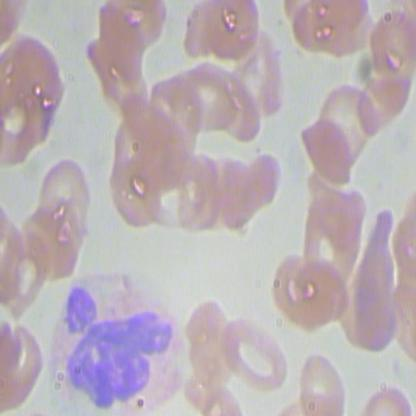RBC: (189, 51, 265, 146), (1, 33, 64, 142), (225, 23, 292, 120), (34, 155, 95, 259), (302, 181, 368, 276), (87, 1, 157, 82), (181, 296, 240, 391), (107, 139, 167, 229), (225, 313, 290, 393), (271, 245, 330, 332), (354, 54, 413, 138), (315, 79, 374, 163), (194, 1, 263, 59), (295, 256, 352, 325), (300, 114, 356, 184), (292, 347, 348, 415), (214, 153, 257, 235), (244, 148, 285, 219)
WBC: (44, 273, 186, 415)
